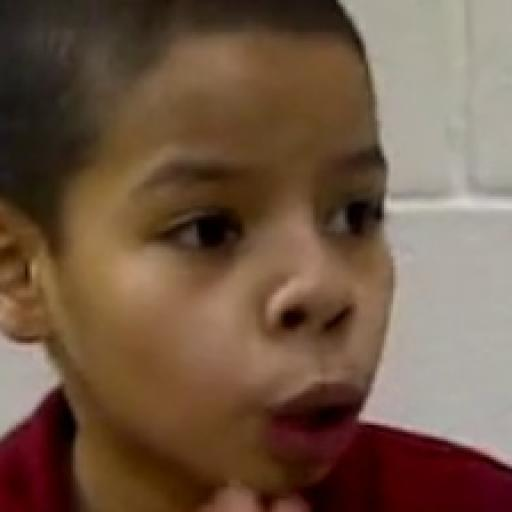Autism: (14, 9, 396, 482)
